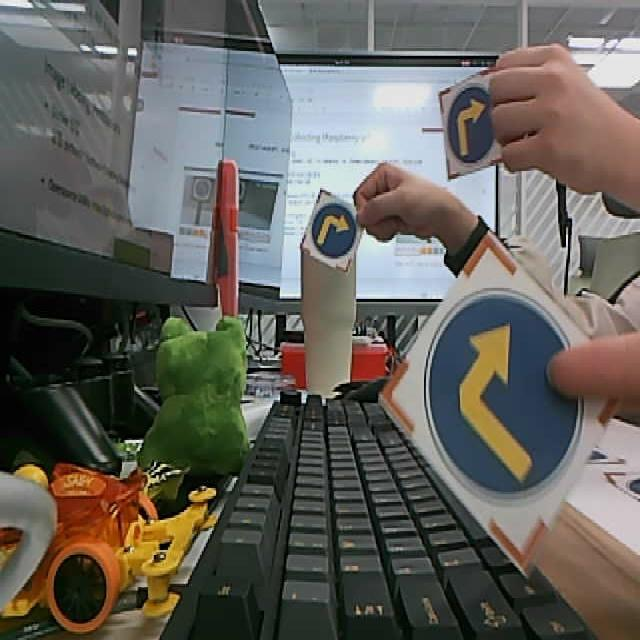turn: (424, 287, 584, 505), (446, 85, 495, 162), (310, 202, 359, 259)
